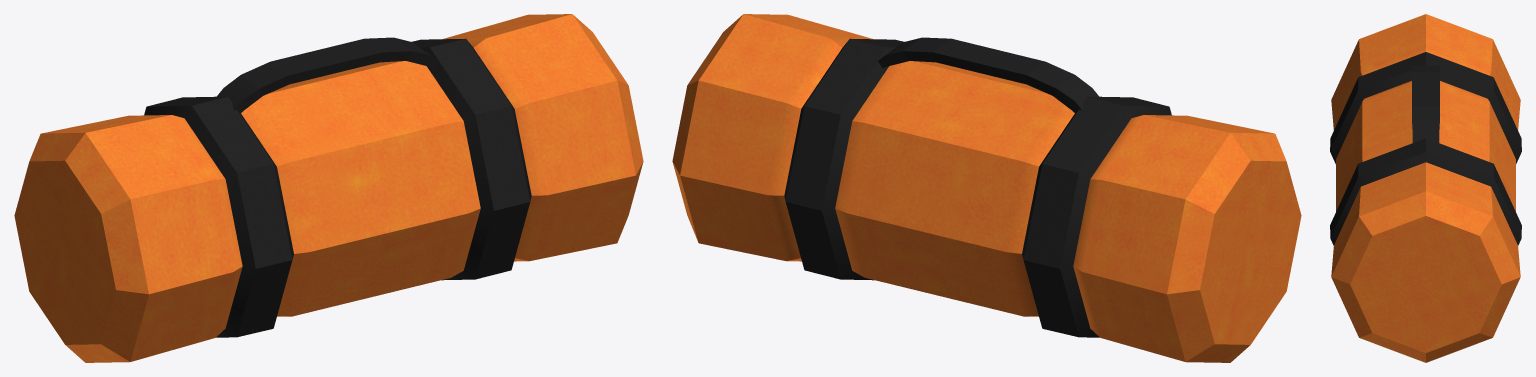
Rendered from tentbag.fbx.
3 views of the same model, side by side, from view 1: azimuth 30°, elevation 25°; view 2: azimuth 150°, elevation 25°; view 3: azimuth 270°, elevation 25° (orthographic). The views are drawn at different scales.
Parts seen in each view (by area): view 1: tentbag, handle; view 2: tentbag, handle; view 3: tentbag, handle.
Part boxes in pixels (x1=…): tentbag: x1=14, y1=14, x2=643, y2=362; handle: x1=216, y1=37, x2=437, y2=113; tentbag: x1=672, y1=14, x2=1301, y2=362; handle: x1=878, y1=37, x2=1099, y2=113; tentbag: x1=1330, y1=14, x2=1521, y2=362; handle: x1=1412, y1=65, x2=1439, y2=142.
Size of the model in its own units: 50.32 by 22.66 by 21.24.
